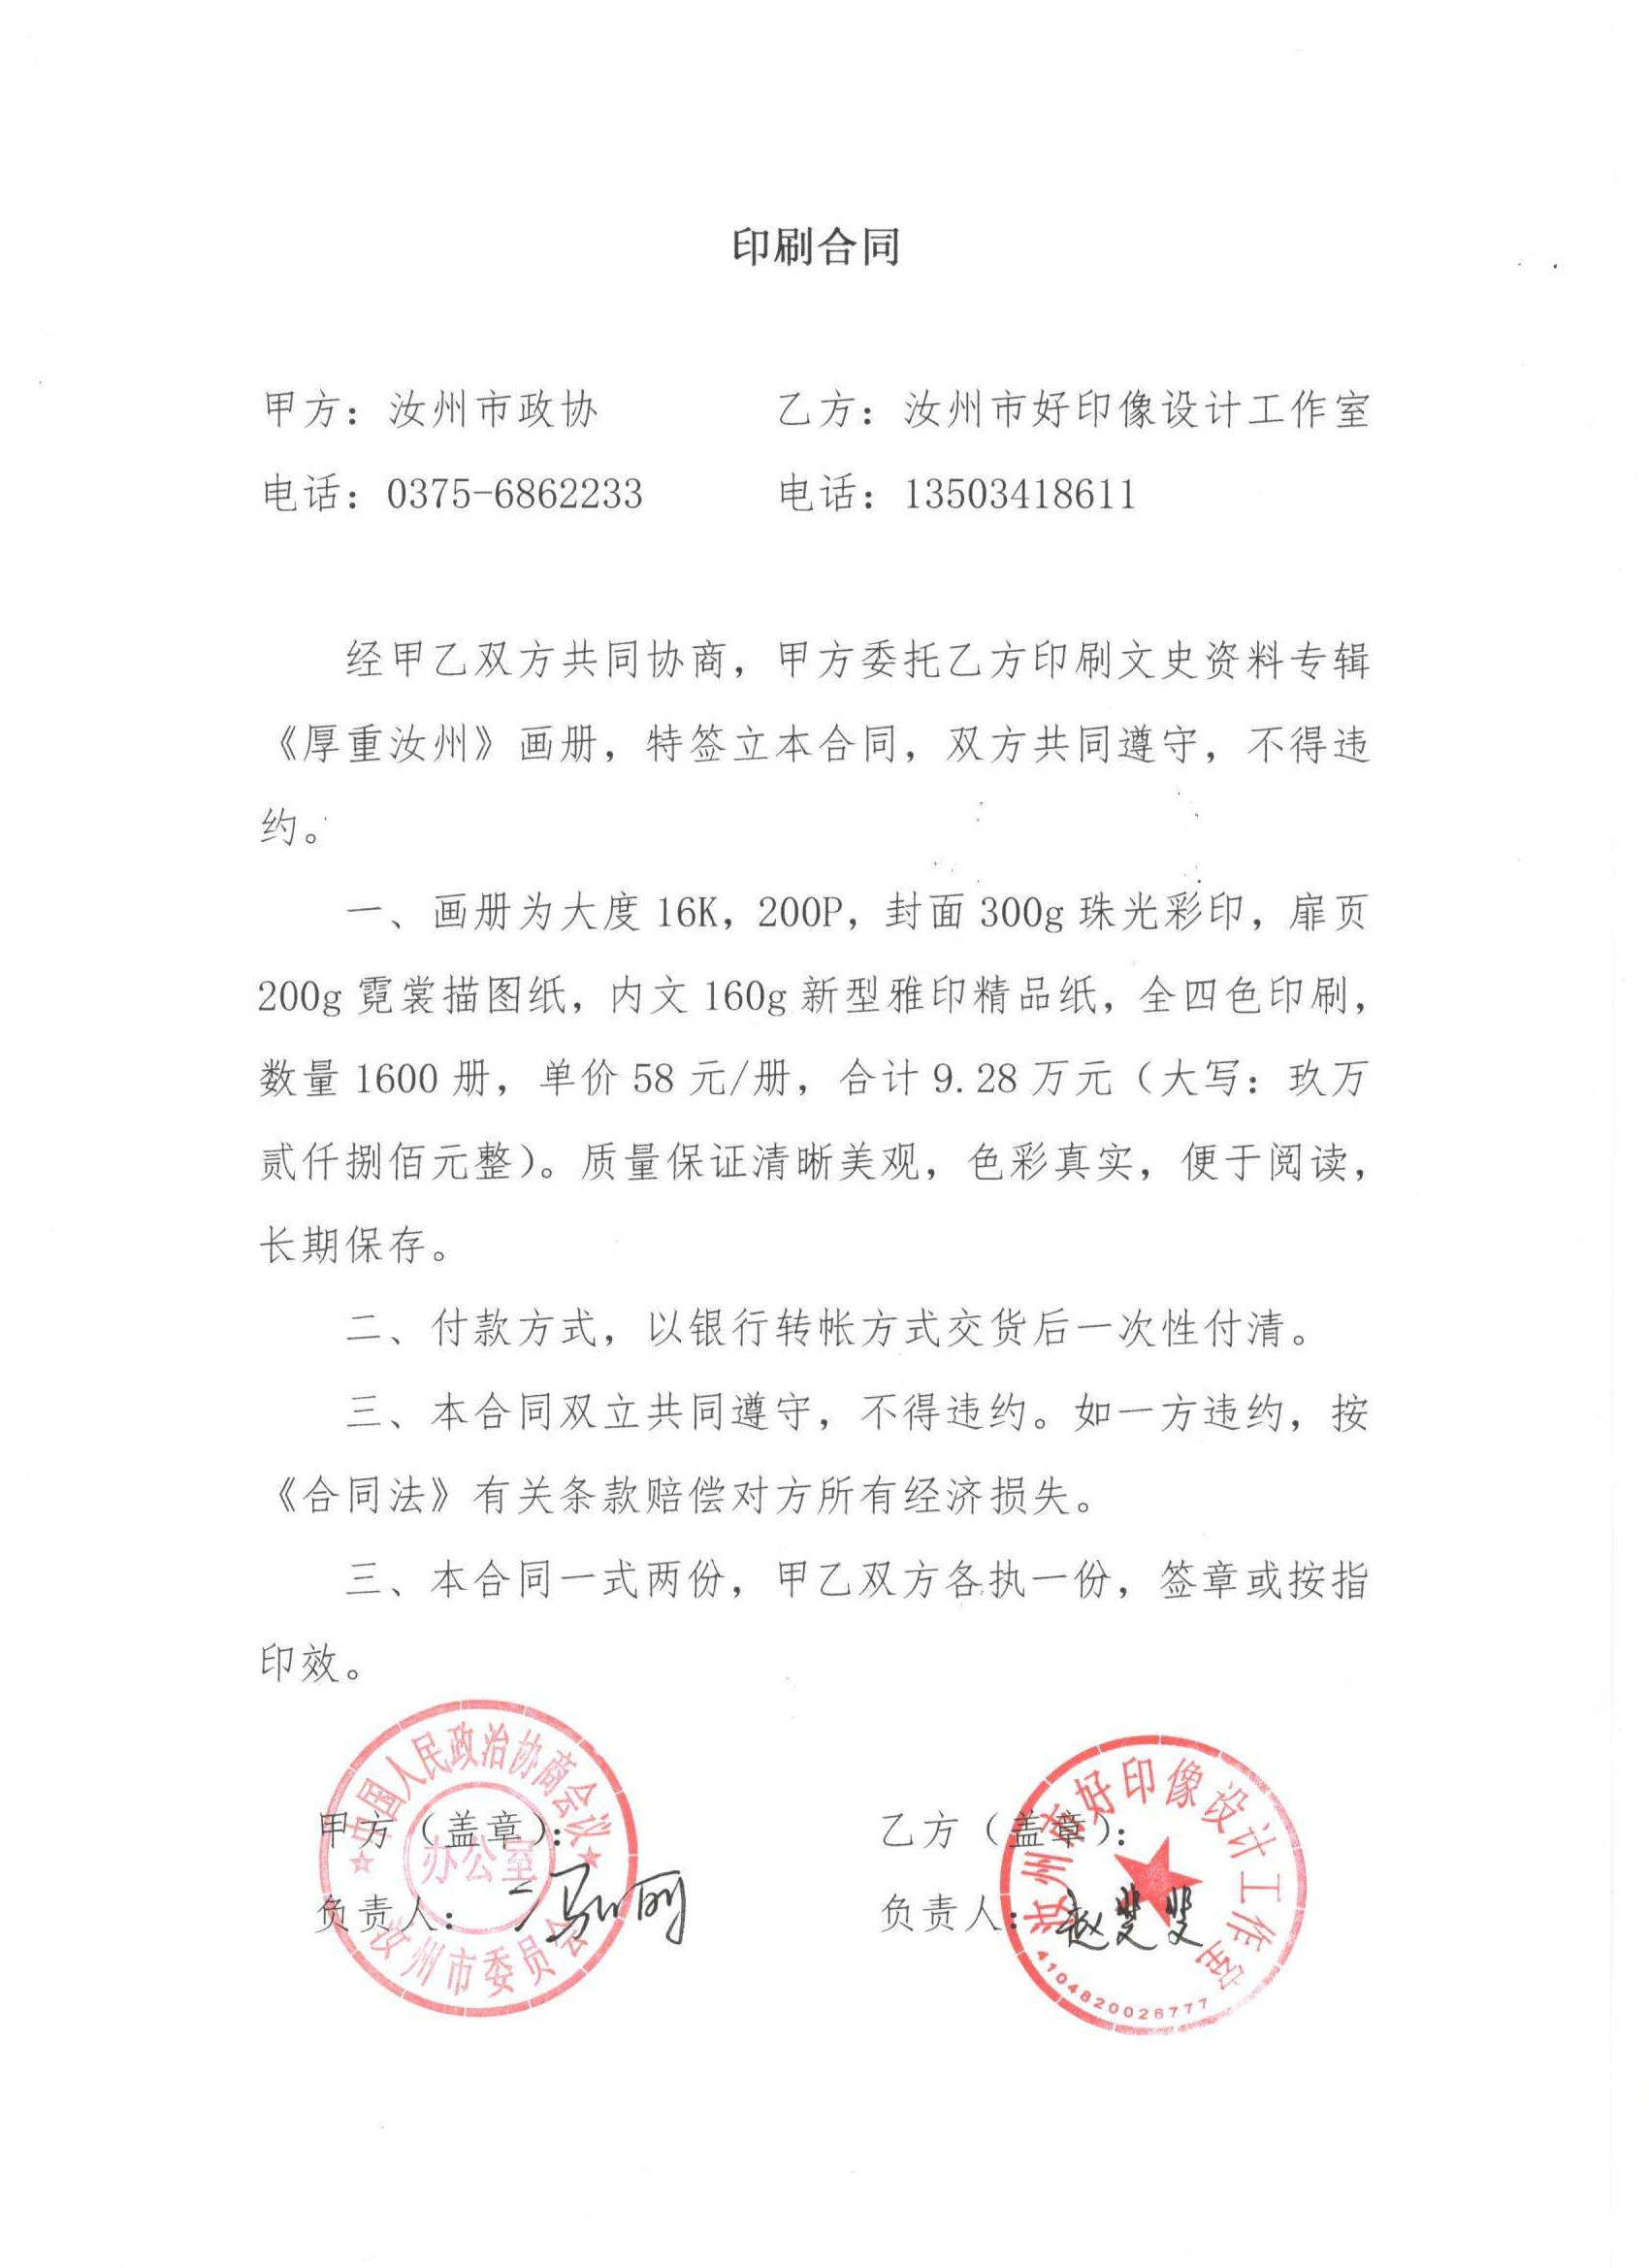Document Title: (730, 220, 904, 277)
Seal: (319, 1707, 644, 2016), (998, 1734, 1309, 2040)
Text: (252, 897, 1380, 1266), (260, 632, 1371, 853), (270, 1390, 1371, 1522), (258, 1553, 1374, 1675), (339, 1306, 1313, 1350), (878, 1803, 1124, 1933), (772, 378, 1380, 429), (317, 1811, 569, 1928), (262, 469, 648, 520), (774, 470, 1144, 522), (256, 386, 606, 436)
